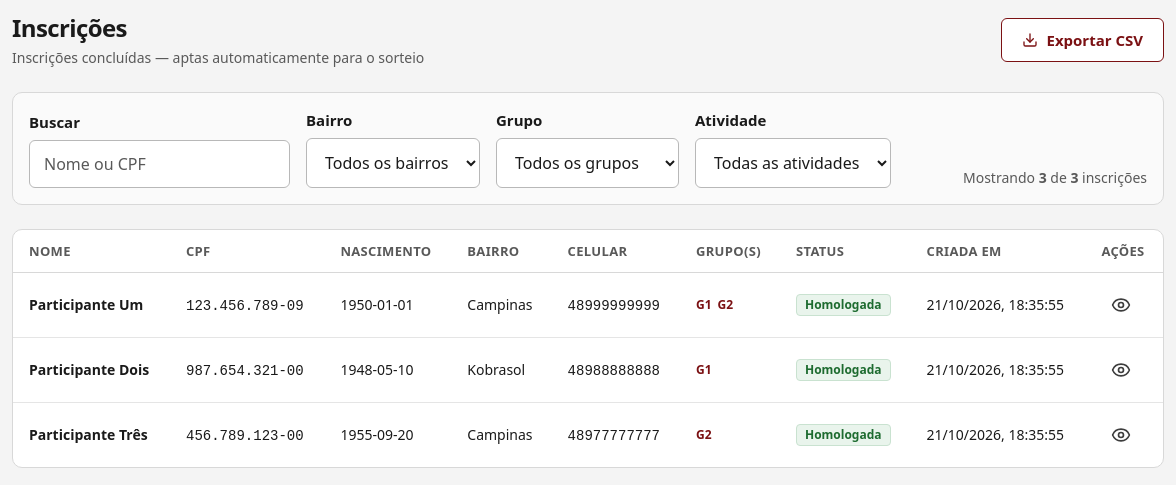
Scenario: RegistrationsPage — filtros › filtra por bairro
expect the text "Participante Um" is shown: met, box [29,295,154,315]
Select "Kobrasol" in the dropdown labelled "Bairro": (393, 162) [306,138,480,188]
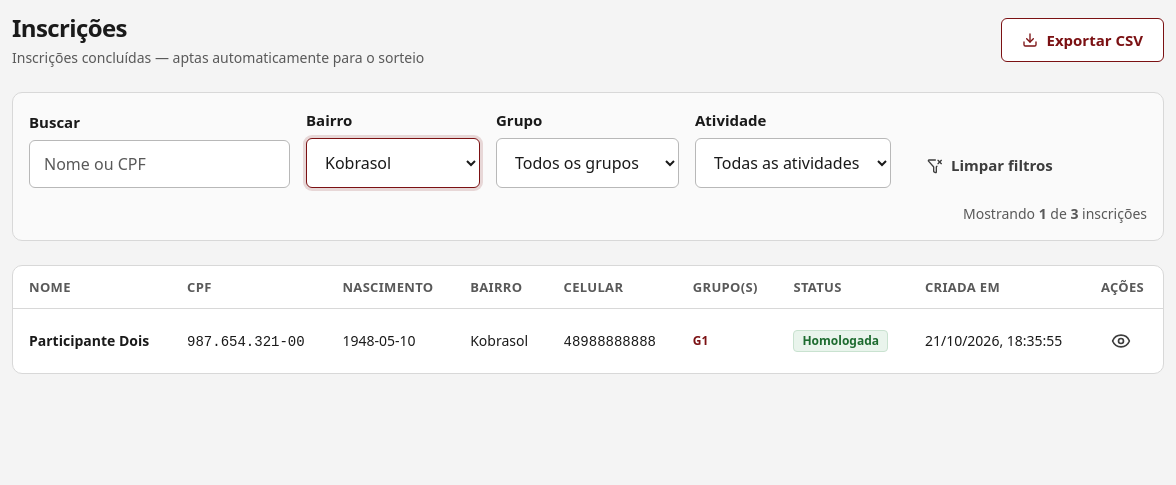
expect the text "Participante Dois" is shown: met, box [29,331,155,351]
expect the element showing "Mostrando 1 de 3 inscrições" is shown: met, box [963,204,1147,224]
expect the text "Participante Um" is gone: met
